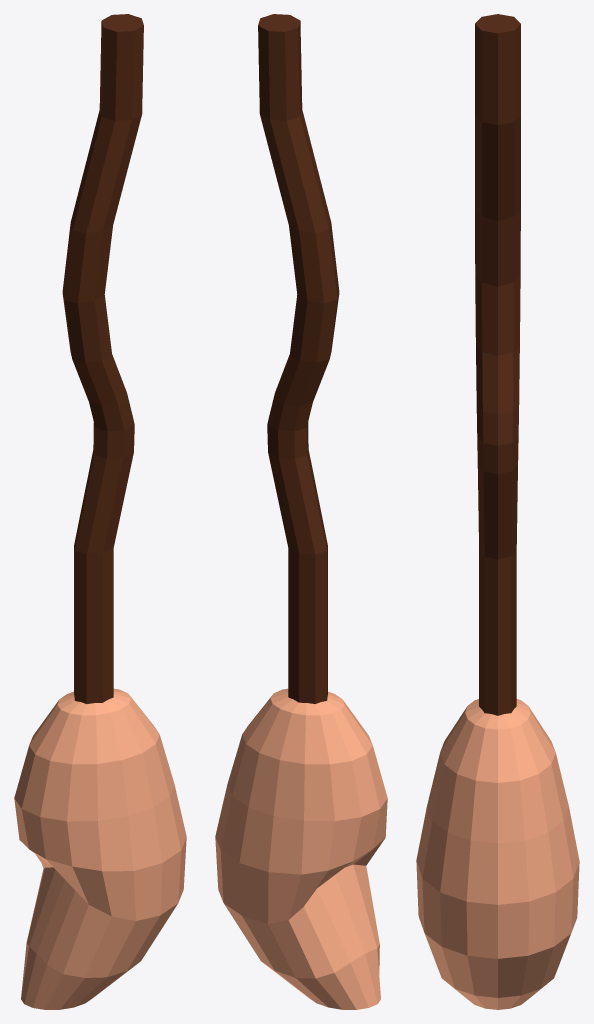
File: broom.fbx
3 renders of one model, left to right at view 1: azimuth 30°, elevation 25°; view 2: azimuth 150°, elevation 25°; view 3: azimuth 270°, elevation 25°, orthographic. The views are drawn at different scales.
Parts seen in each view (by area): view 1: broom; view 2: broom; view 3: broom.
Part boxes in pixels (x1,y1,x2,y2): broom: [14, 14, 186, 1009]; broom: [215, 14, 387, 1009]; broom: [416, 14, 579, 1009].
Bounding box in the file's own units: 0.6218 × 0.5366 × 3.67.
